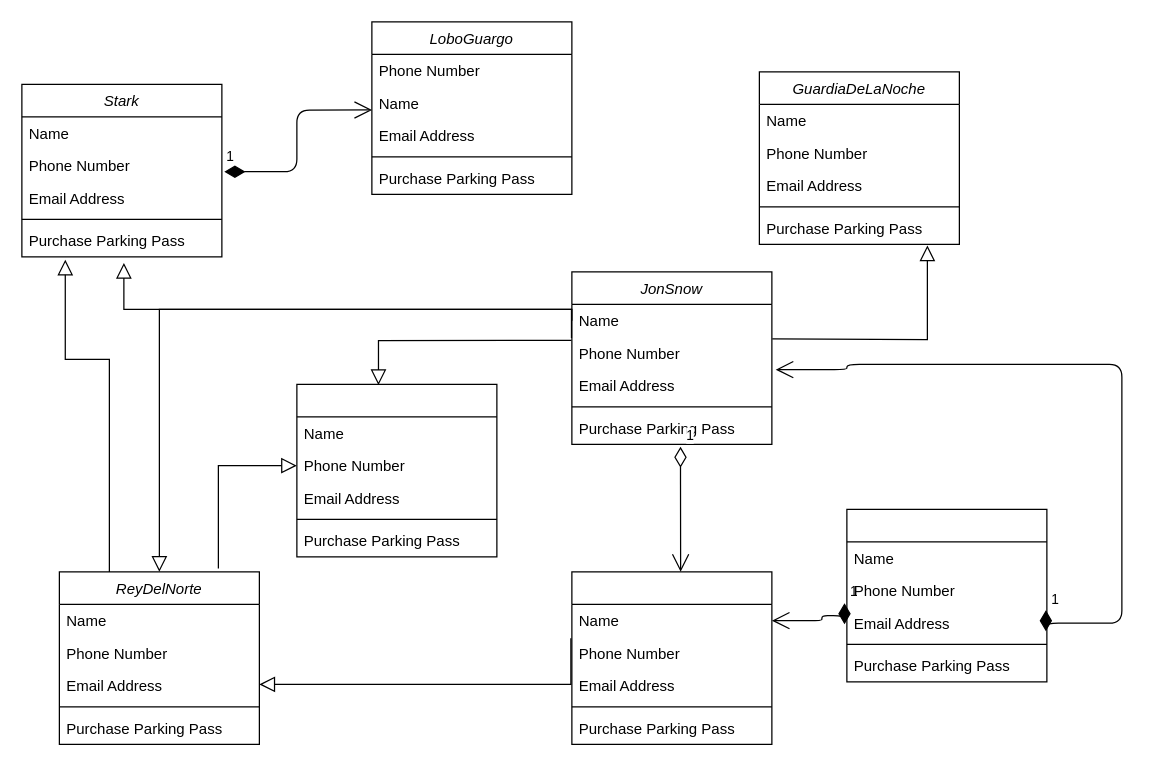
Image size: 1165x770. Some labels were removed from this diagram. The shapes that lost their labels are listed below. From the top down, each one's box as (x1, y1, x2, y2) in pixels, then its label:
(296, 383, 497, 557): Humano
(846, 508, 1047, 682): GoT
(571, 571, 772, 744): NedStark
